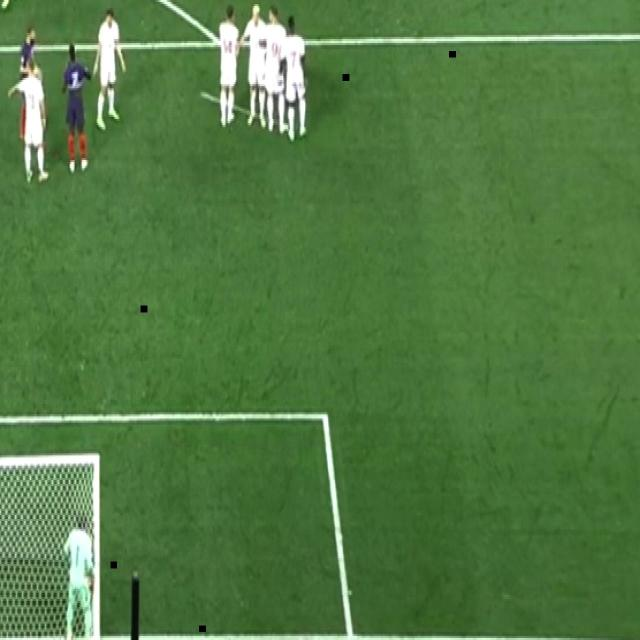player-white: (4, 60, 52, 192), (91, 5, 128, 134), (60, 510, 96, 640), (59, 41, 93, 175), (280, 14, 310, 144), (260, 1, 288, 139), (240, 0, 268, 136), (216, 2, 242, 136), (15, 18, 43, 141), (0, 0, 29, 12)
